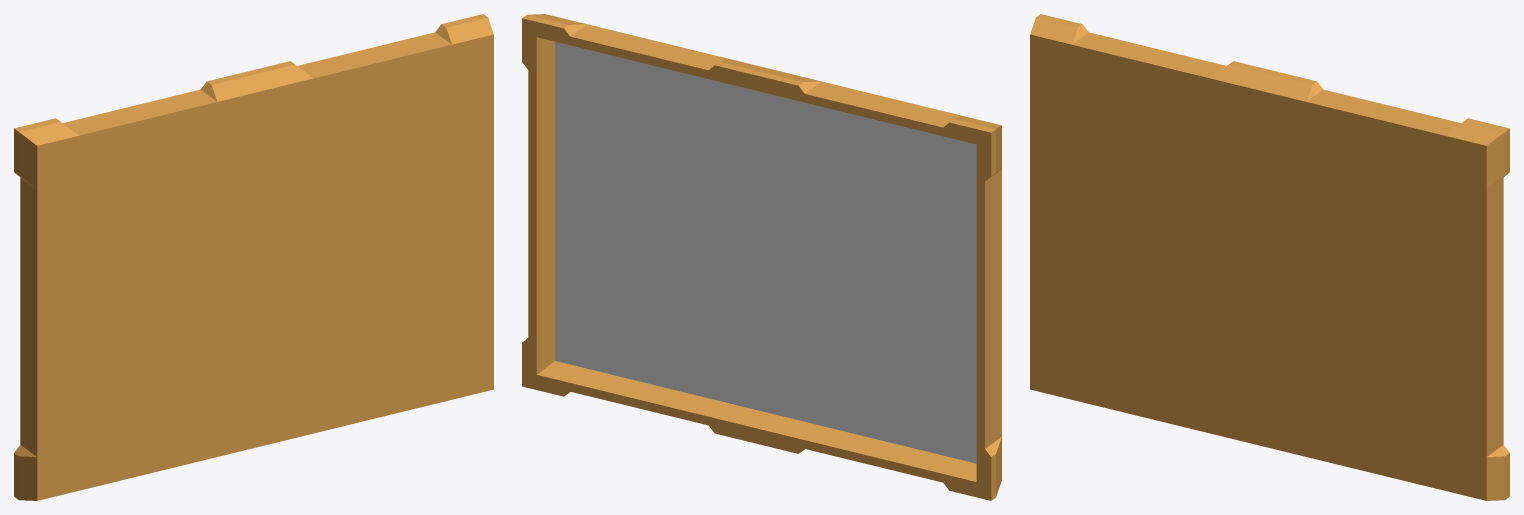
File: ram3.fbx
3 views of the same model, side by side, from view 1: azimuth 30°, elevation 25°; view 2: azimuth 150°, elevation 25°; view 3: azimuth 330°, elevation 25° (orthographic).
Visible parts, largest first — view 1: tavla1; view 2: tavla1; view 3: tavla1.
Boxes of the visible parts, bbox=[...] form: tavla1: bbox=[14, 14, 493, 500]; tavla1: bbox=[522, 14, 1001, 500]; tavla1: bbox=[1030, 14, 1509, 500].
Bounding box in the file's own units: 11200 × 8400 × 700.
